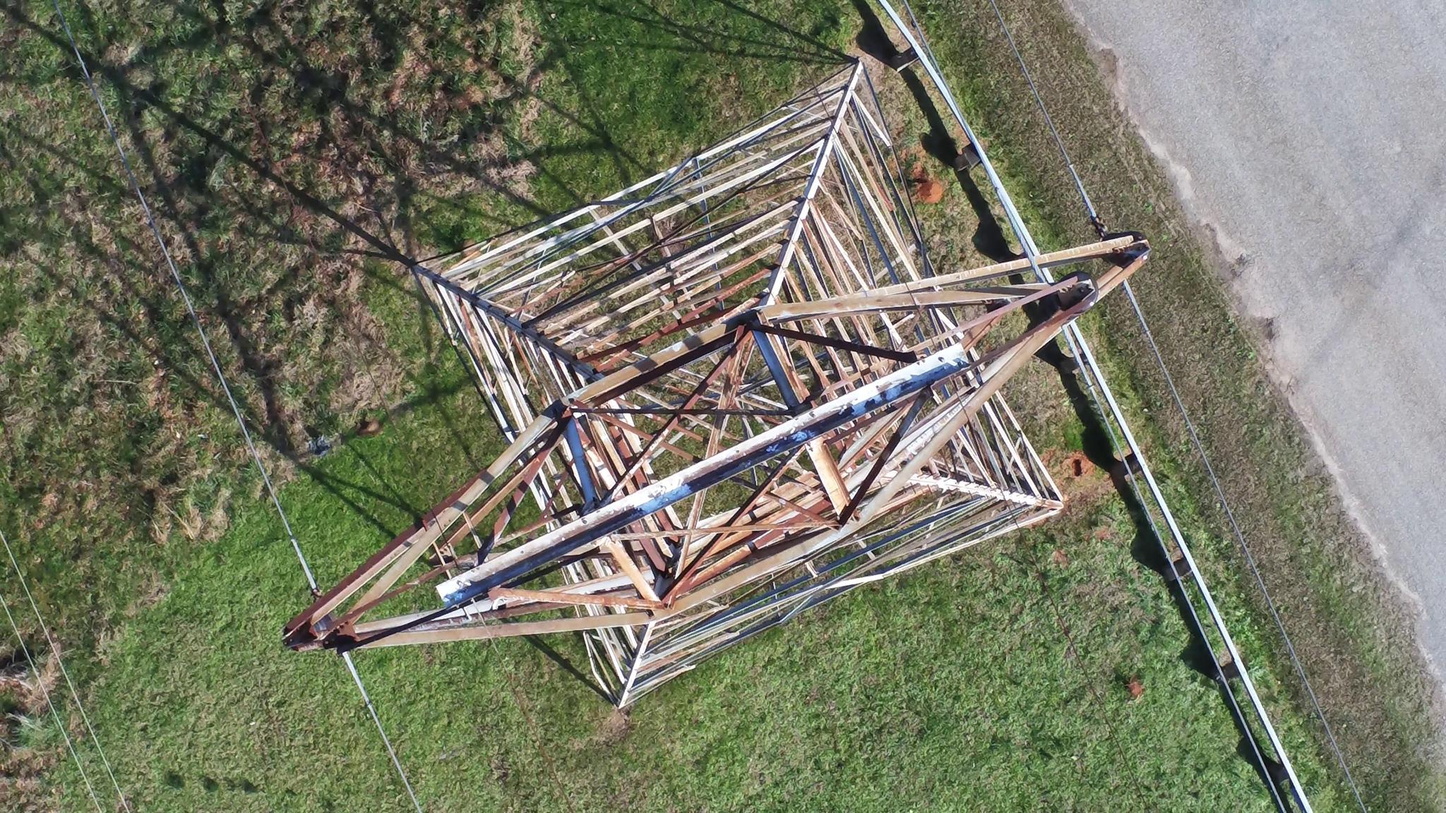tower: (275, 56, 1157, 713)
